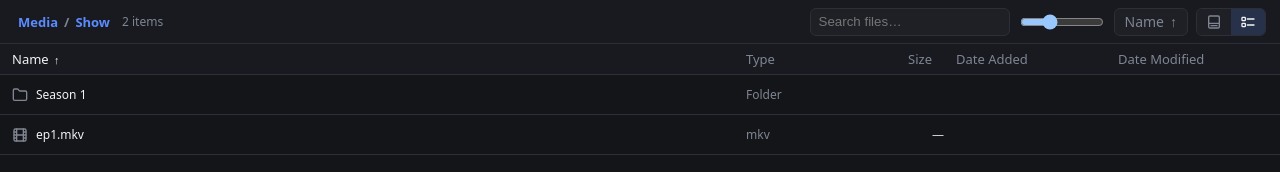
a read-only library looks exactly as it did before write mode existed
# …and the background menu that would offer it does not open at all.
Right-click the table with class "file-browser__body" at {"x": 640, "y": 100}, box [0, 44, 1279, 155]
Right-click the row "Season 1 Folder" at {"x": 640, "y": 95}, box [0, 75, 1279, 115]
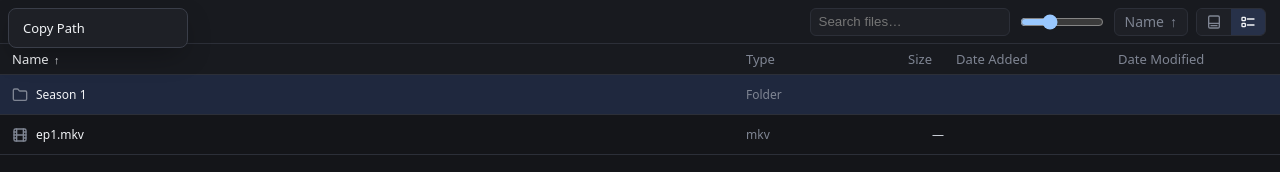
Check: the menu item "Copy Path" is shown, box [13, 13, 183, 43]
